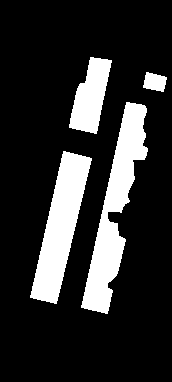parkingspot: (81, 102, 147, 313), (30, 151, 91, 303), (69, 57, 111, 133), (143, 72, 166, 91)
